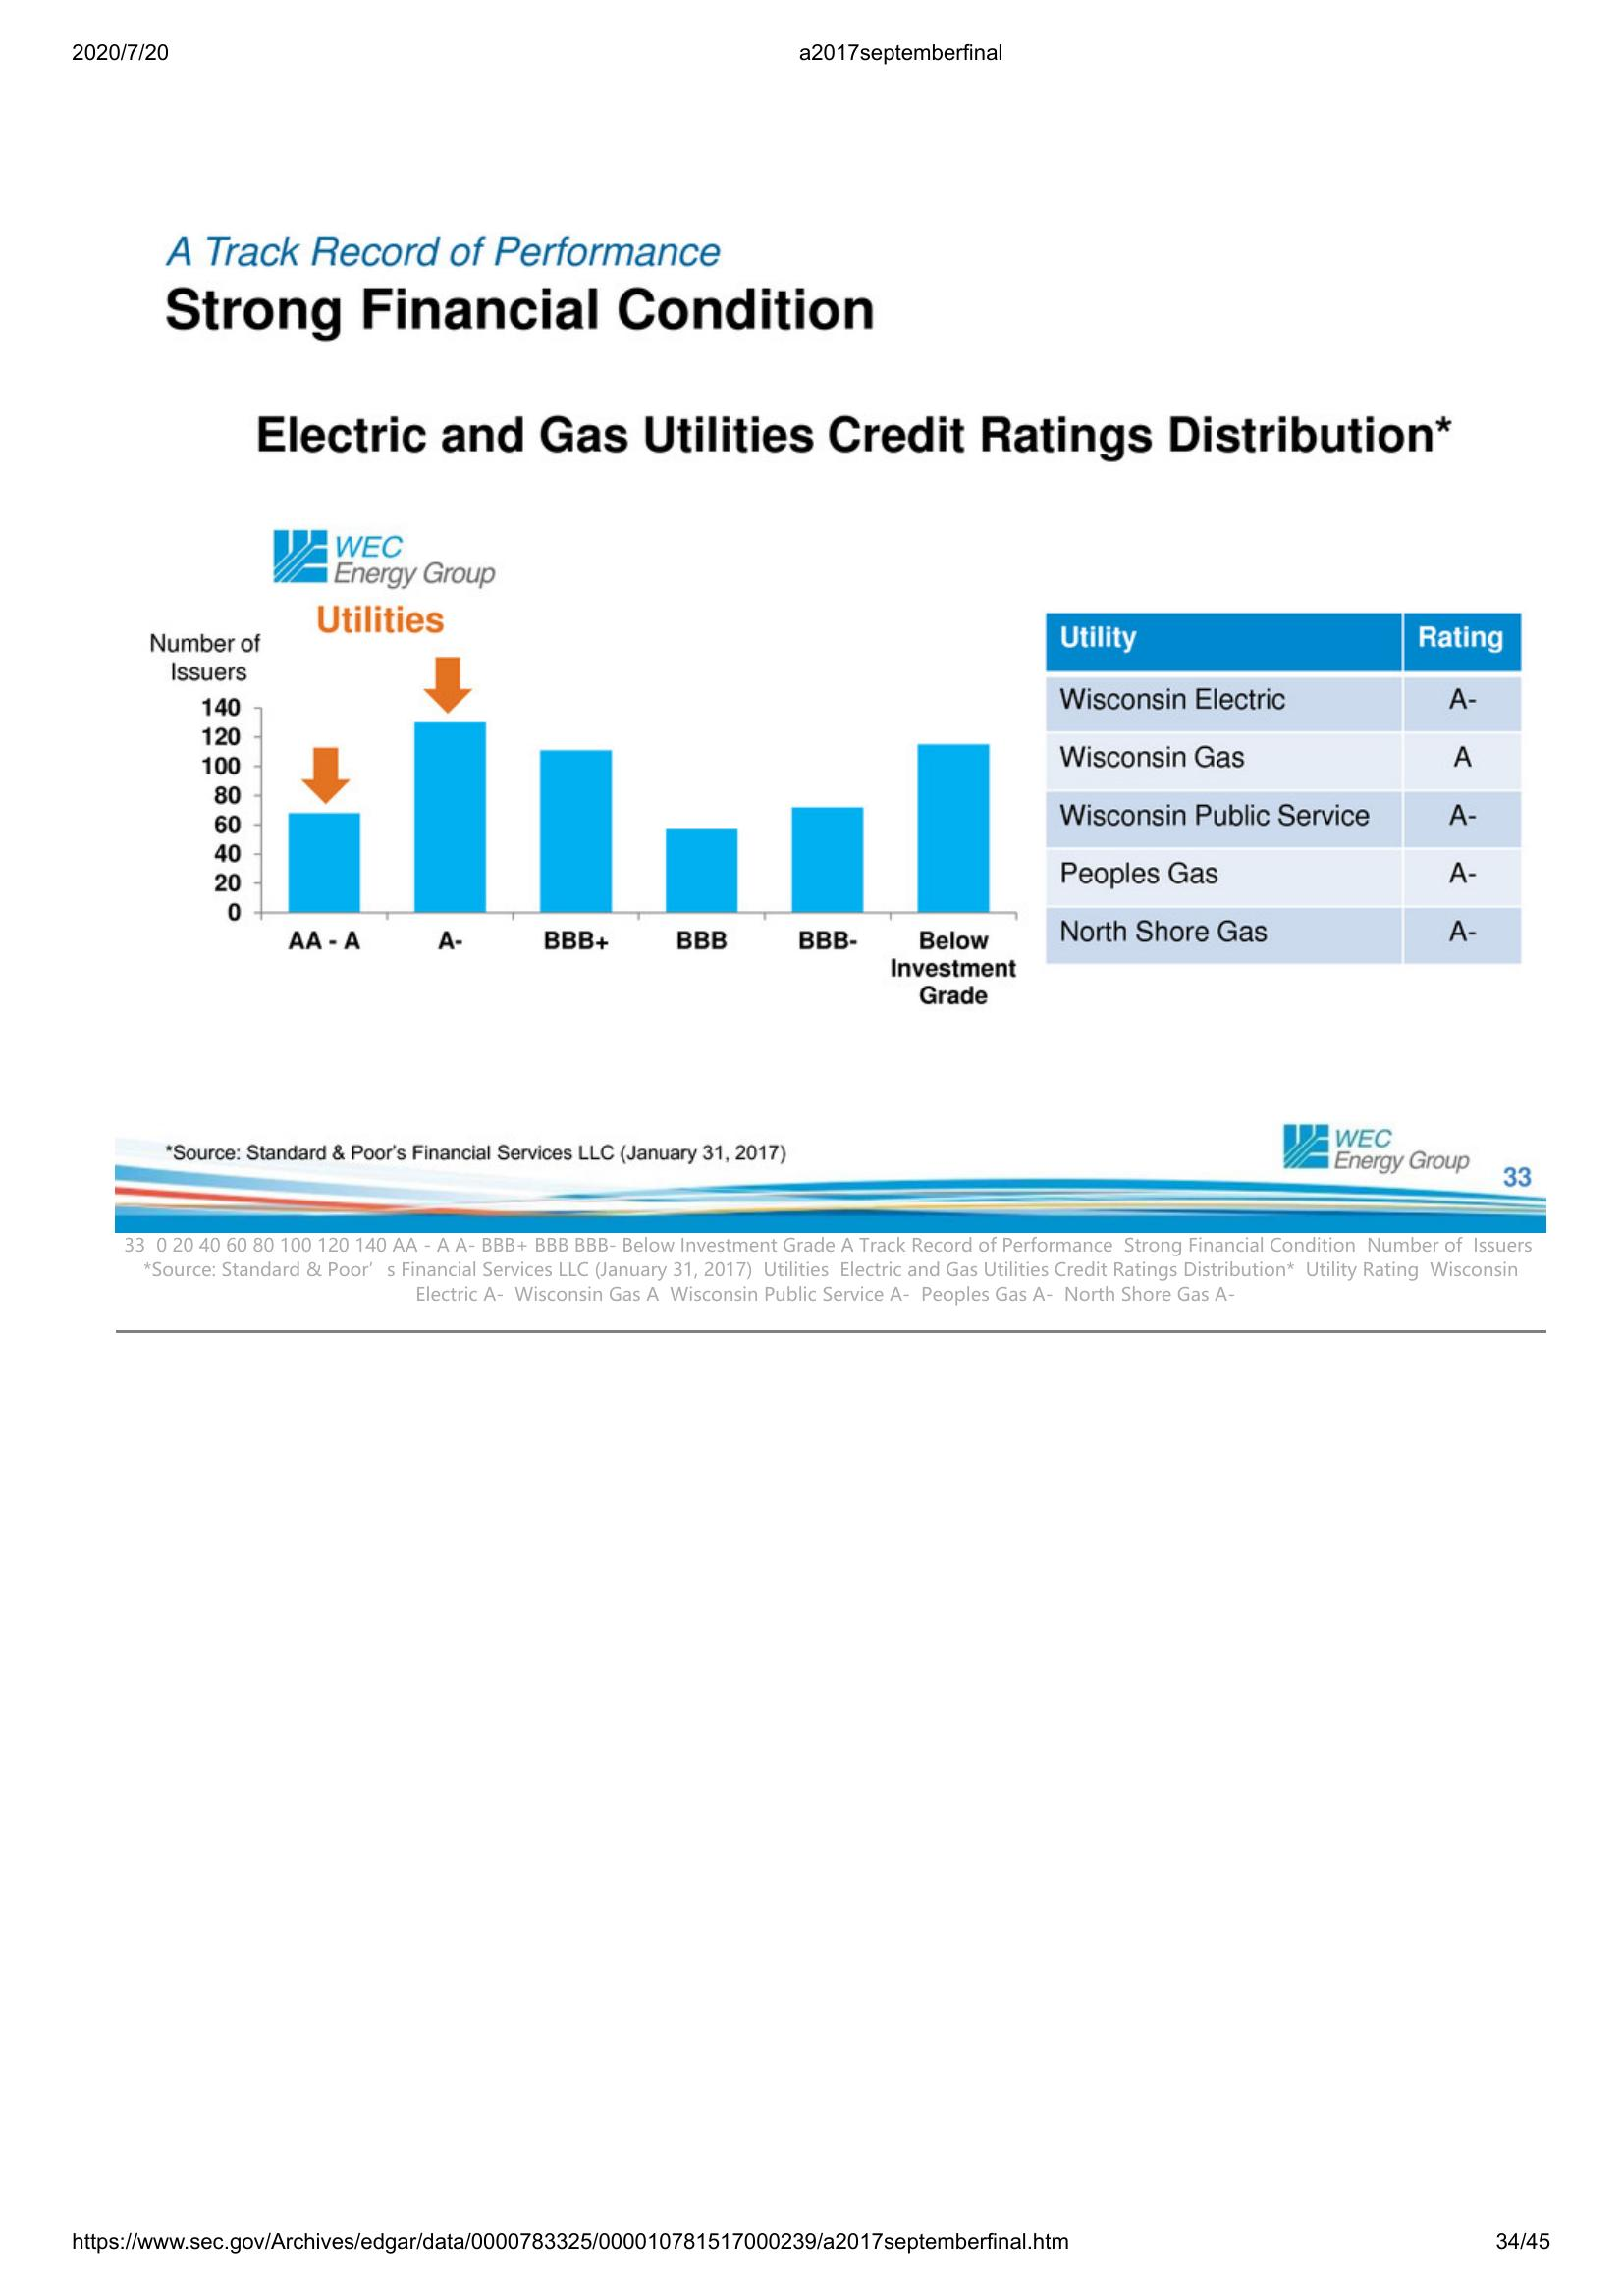table: (1038, 607, 1530, 971)
